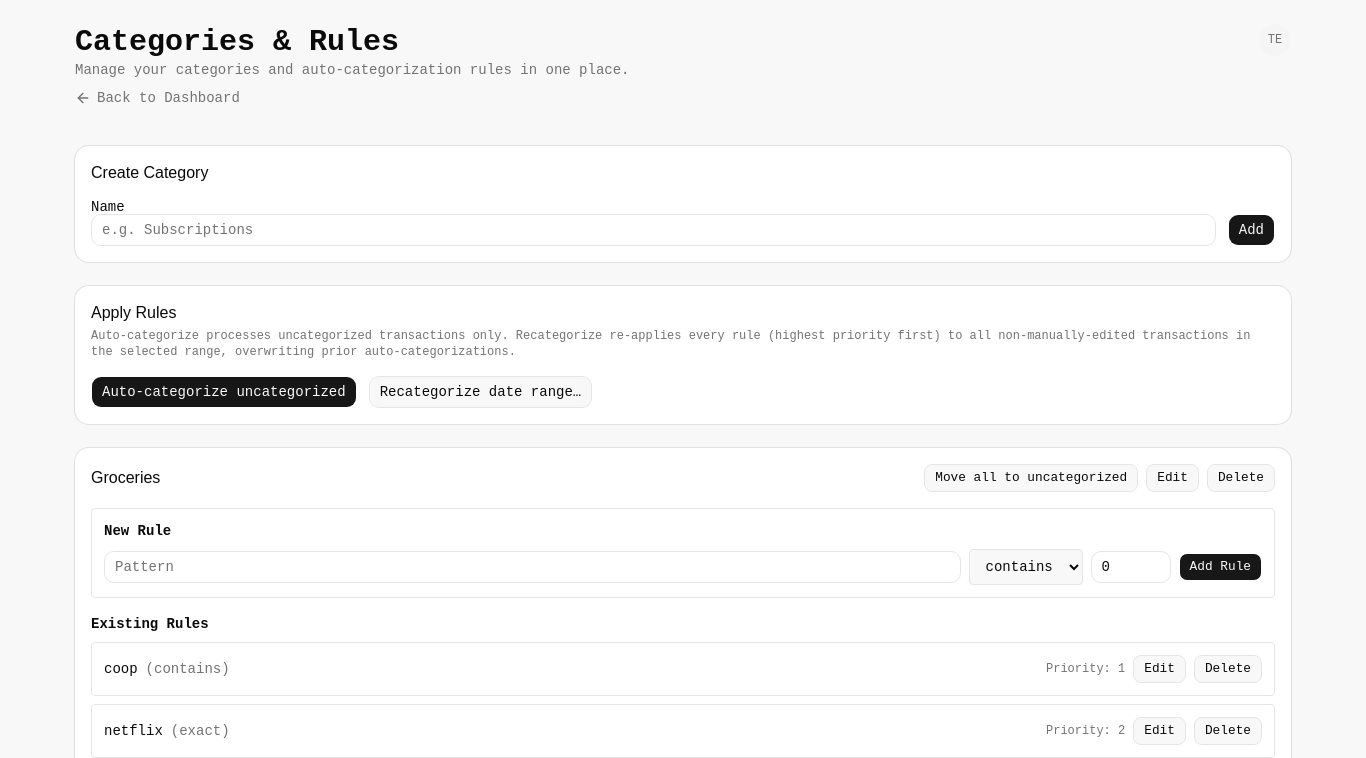
Test: CategoriesPage › shows validation error when saving rule with empty pattern
Expected: the text "coop" is shown, [104,661,138,677]
Click the button with aria-label "Edit rule rule-1": click(1160, 669) [1133,655,1186,683]
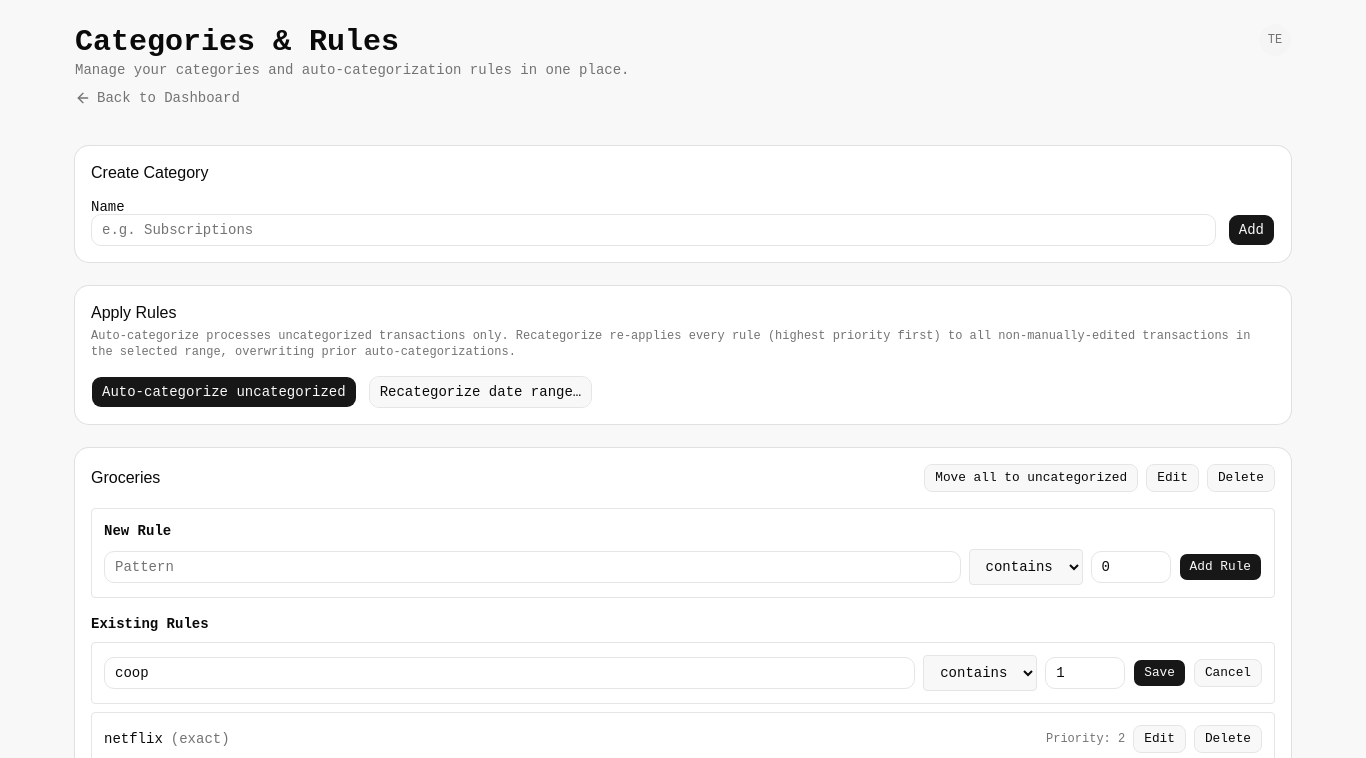
Clear the field named "Rule pattern rule-1": (510, 673) [104,657,915,689]
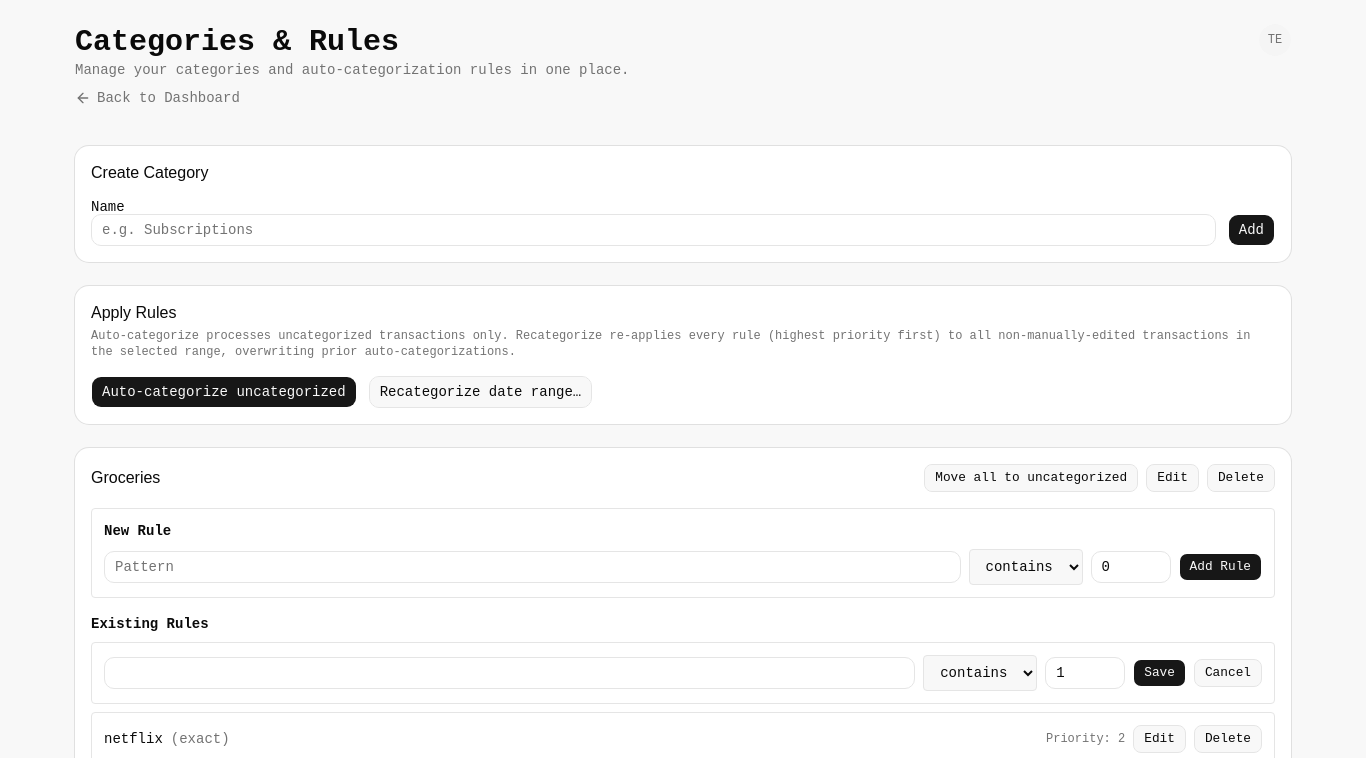
Click the button with aria-label "Save rule rule-1": click(1160, 673) [1133,659,1186,687]
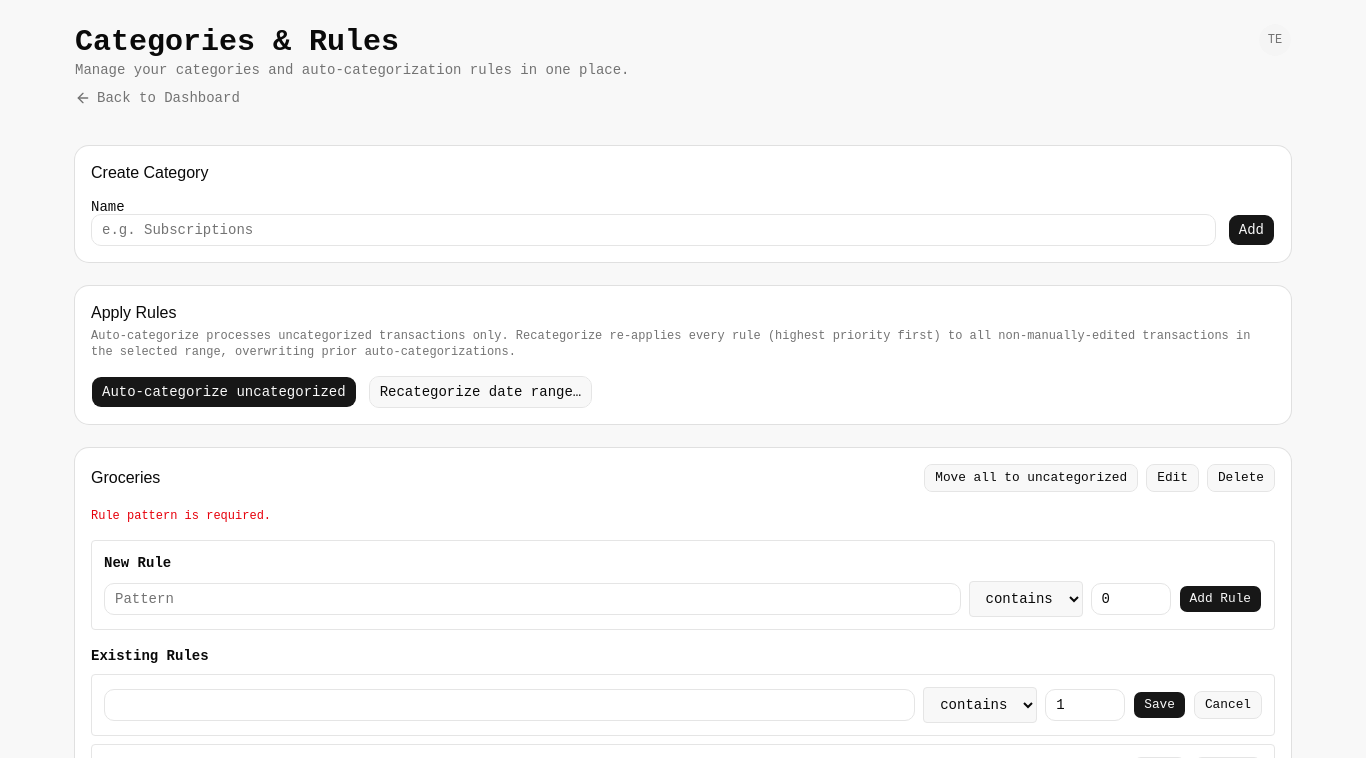
Expected: the text "Groceries" is shown, [91,469,160,486]
Now the text "Rule pattern is required." is shown, box [91,509,271,523]
